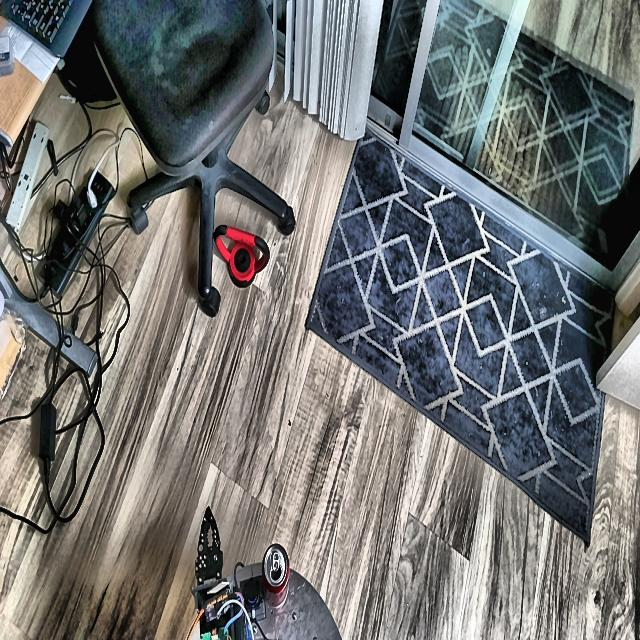Can: (263, 544, 289, 607)
